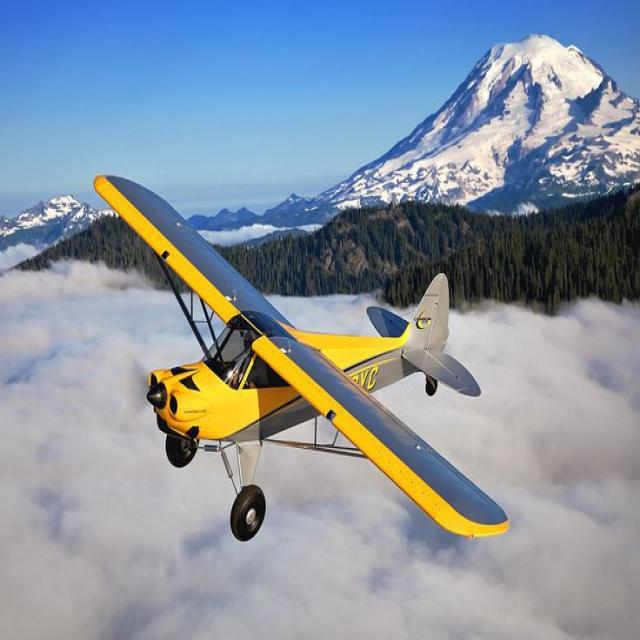iha: (93, 174, 509, 543)
